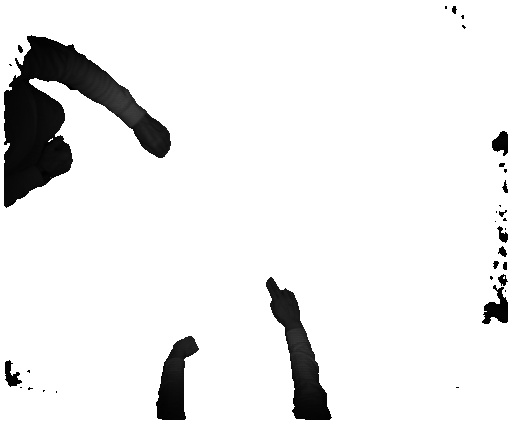fist: (42, 135, 79, 183), (135, 119, 175, 159), (172, 336, 199, 360)
hand: (264, 272, 303, 325)
